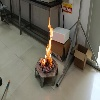fire: (41, 16, 53, 66)
